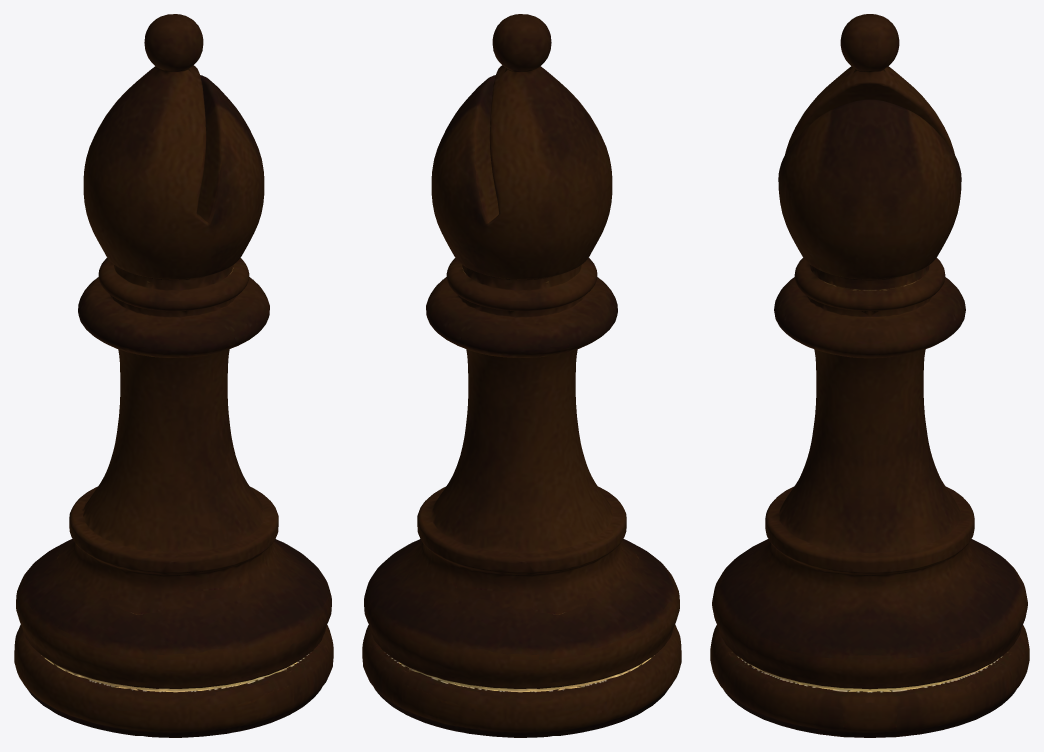
Rendered from 06_bishop_dark.glb.
3 renders of one model, left to right at view 1: azimuth 30°, elevation 25°; view 2: azimuth 150°, elevation 25°; view 3: azimuth 270°, elevation 25°, orthographic.
Visible parts, largest first — view 1: world; view 2: world; view 3: world.
Boxes of the visible parts, box(x1,y1,x2,y2) form: world: box(14, 14, 333, 737); world: box(362, 14, 681, 737); world: box(710, 14, 1029, 737).
Size of the model in its own units: 0.4414 by 1 by 0.4414.
1 material, 1 textured.
